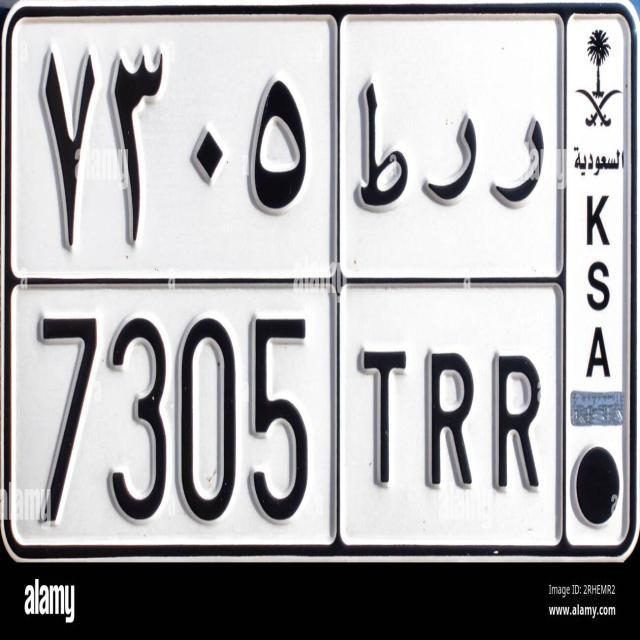license_plate: (0, 0, 635, 554), (6, 279, 568, 556)
